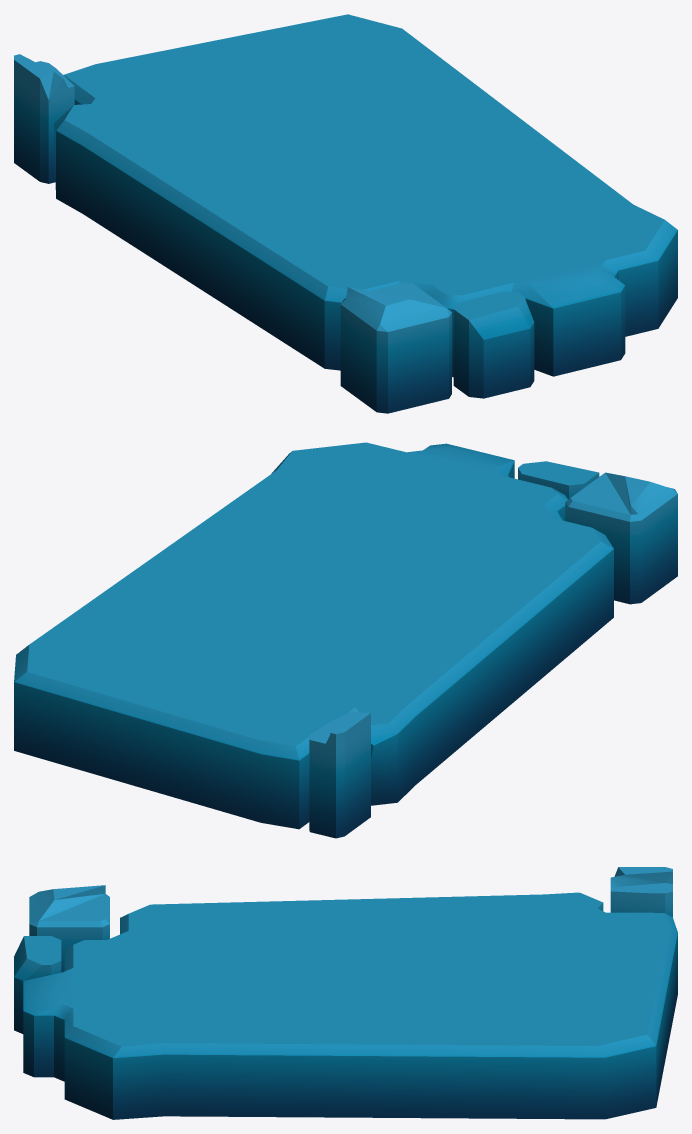
Rendered from Tomb Base 02.fbx.
The picture shows the model from 3 angles, top to bottom: view 1: azimuth 30°, elevation 25°; view 2: azimuth 150°, elevation 25°; view 3: azimuth 270°, elevation 25°; orthographic projection. The views are drawn at different scales.
Parts seen in each view (by area): view 1: Tomb Base 02.001; view 2: Tomb Base 02.001; view 3: Tomb Base 02.001.
Part boxes in pixels (<box>): Tomb Base 02.001: <box>14,14,677,413</box>; Tomb Base 02.001: <box>14,442,677,838</box>; Tomb Base 02.001: <box>14,867,677,1119</box>.
Size of the model in its own units: 212 by 57.41 by 369.
